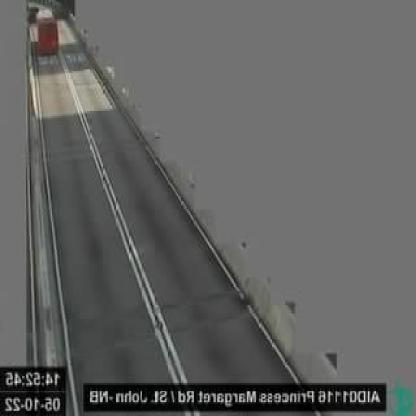Bus: (38, 7, 58, 54)
